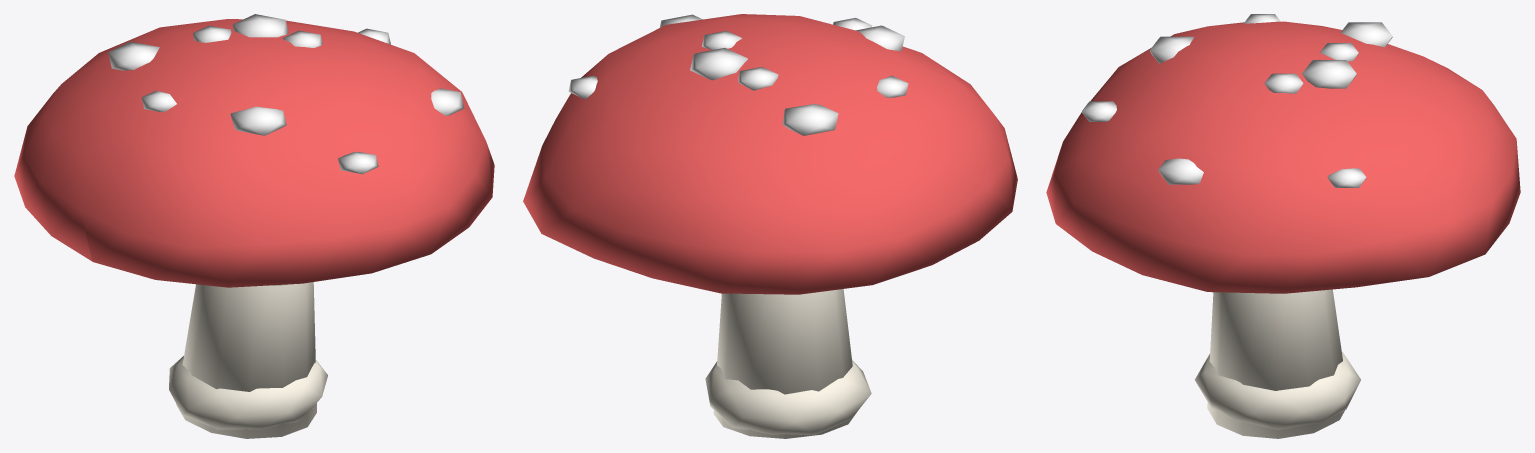
Rendered from mushroom_big.fbx.
The picture shows the model from 3 angles, left to right: view 1: azimuth 30°, elevation 25°; view 2: azimuth 150°, elevation 25°; view 3: azimuth 270°, elevation 25°; orthographic projection. The views are drawn at different scales.
Parts seen in each view (by area): view 1: Cap_mushroom_big, Stem_mushroom_big, Spot_mushroom_big; view 2: Cap_mushroom_big, Stem_mushroom_big, Spot_mushroom_big; view 3: Cap_mushroom_big, Stem_mushroom_big, Spot_mushroom_big.
Part boxes in pixels (x1=…): Cap_mushroom_big: x1=14, y1=19, x2=494, y2=287; Stem_mushroom_big: x1=169, y1=282, x2=327, y2=438; Spot_mushroom_big: x1=108, y1=14, x2=464, y2=174; Cap_mushroom_big: x1=523, y1=14, x2=1017, y2=294; Stem_mushroom_big: x1=705, y1=289, x2=871, y2=438; Spot_mushroom_big: x1=568, y1=14, x2=908, y2=135; Cap_mushroom_big: x1=1046, y1=21, x2=1520, y2=293; Stem_mushroom_big: x1=1195, y1=289, x2=1360, y2=438; Spot_mushroom_big: x1=1082, y1=14, x2=1392, y2=187.
Bounding box in the file's own units: 4.14 × 3.6 × 4.14.
